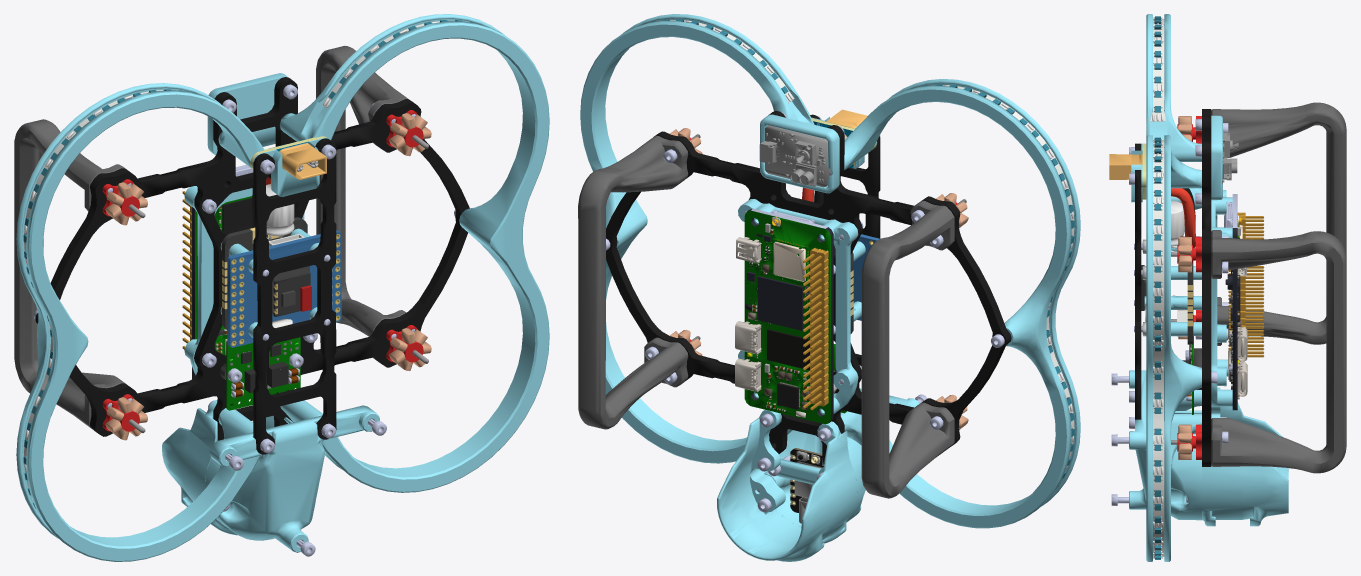
File: obrik_lidar_clean.obj
The picture shows the model from 3 angles, left to right: view 1: azimuth 30°, elevation 25°; view 2: azimuth 150°, elevation 25°; view 3: azimuth 270°, elevation 25°; orthographic projection. The views are drawn at different scales.
Visible parts, largest first — view 1: obrik_lidar_clean; view 2: obrik_lidar_clean; view 3: obrik_lidar_clean.
Boxes of the visible parts, x1,y1,x2,y2 form: obrik_lidar_clean: (14, 14, 549, 561); obrik_lidar_clean: (578, 14, 1080, 561); obrik_lidar_clean: (1109, 14, 1346, 561).
Bounding box in the file's own units: 0.1699 × 0.1552 × 0.0767.
